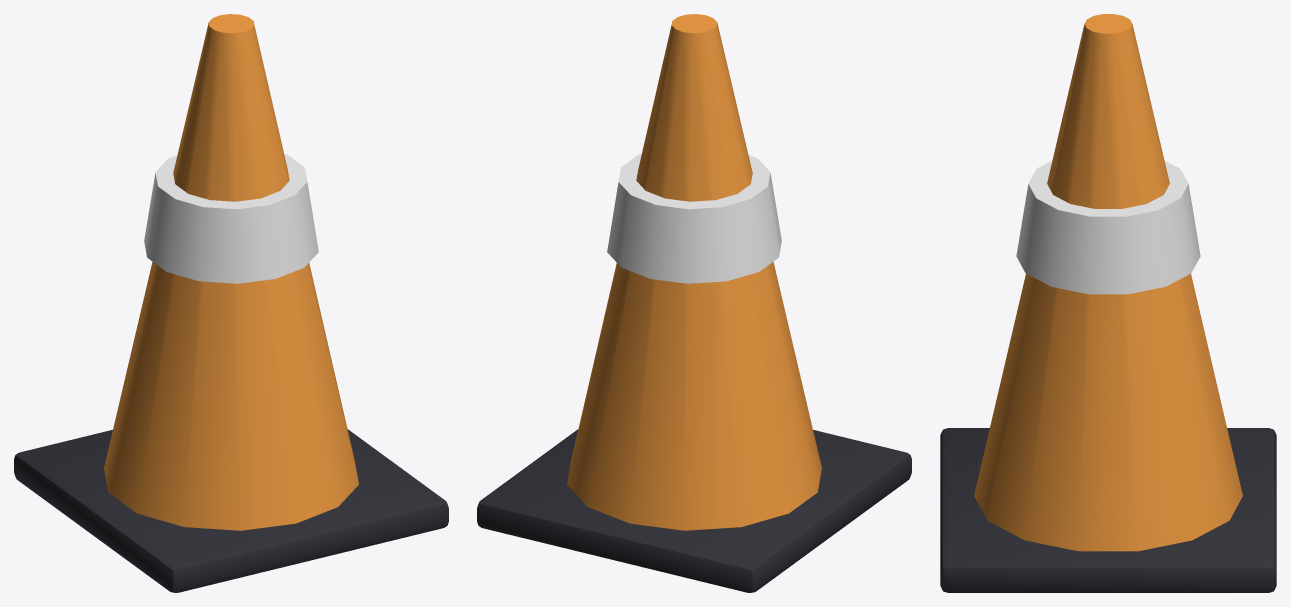
File: cone_transito.glb
The picture shows the model from 3 angles, left to right: view 1: azimuth 30°, elevation 25°; view 2: azimuth 150°, elevation 25°; view 3: azimuth 270°, elevation 25°; orthographic projection. The views are drawn at different scales.
Parts seen in each view (by area): view 1: Cube; view 2: Cube; view 3: Cube.
Boxes of the visible parts, bbox=[...] form: Cube: bbox=[14, 14, 448, 592]; Cube: bbox=[477, 14, 911, 592]; Cube: bbox=[940, 14, 1276, 592].
Bounding box in the file's own units: 0.42 × 0.69 × 0.42.
